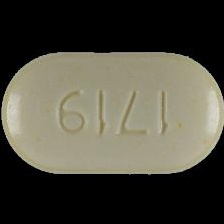58118-0063: (0, 0, 224, 224)
